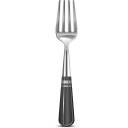fork: (50, 1, 88, 127)
